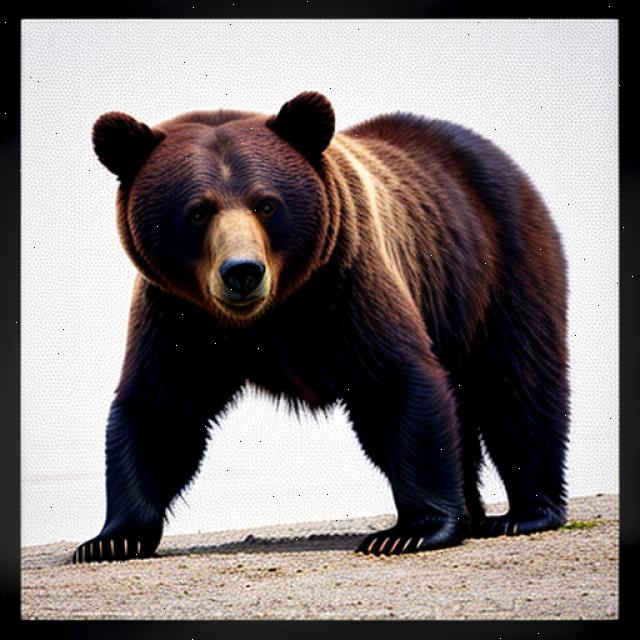bear: (80, 83, 358, 341)
